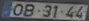1: (52, 4, 58, 18)
3: (41, 3, 52, 17)
4: (64, 5, 74, 19), (74, 5, 83, 19)
B: (22, 3, 35, 17)
O: (11, 2, 24, 16)
